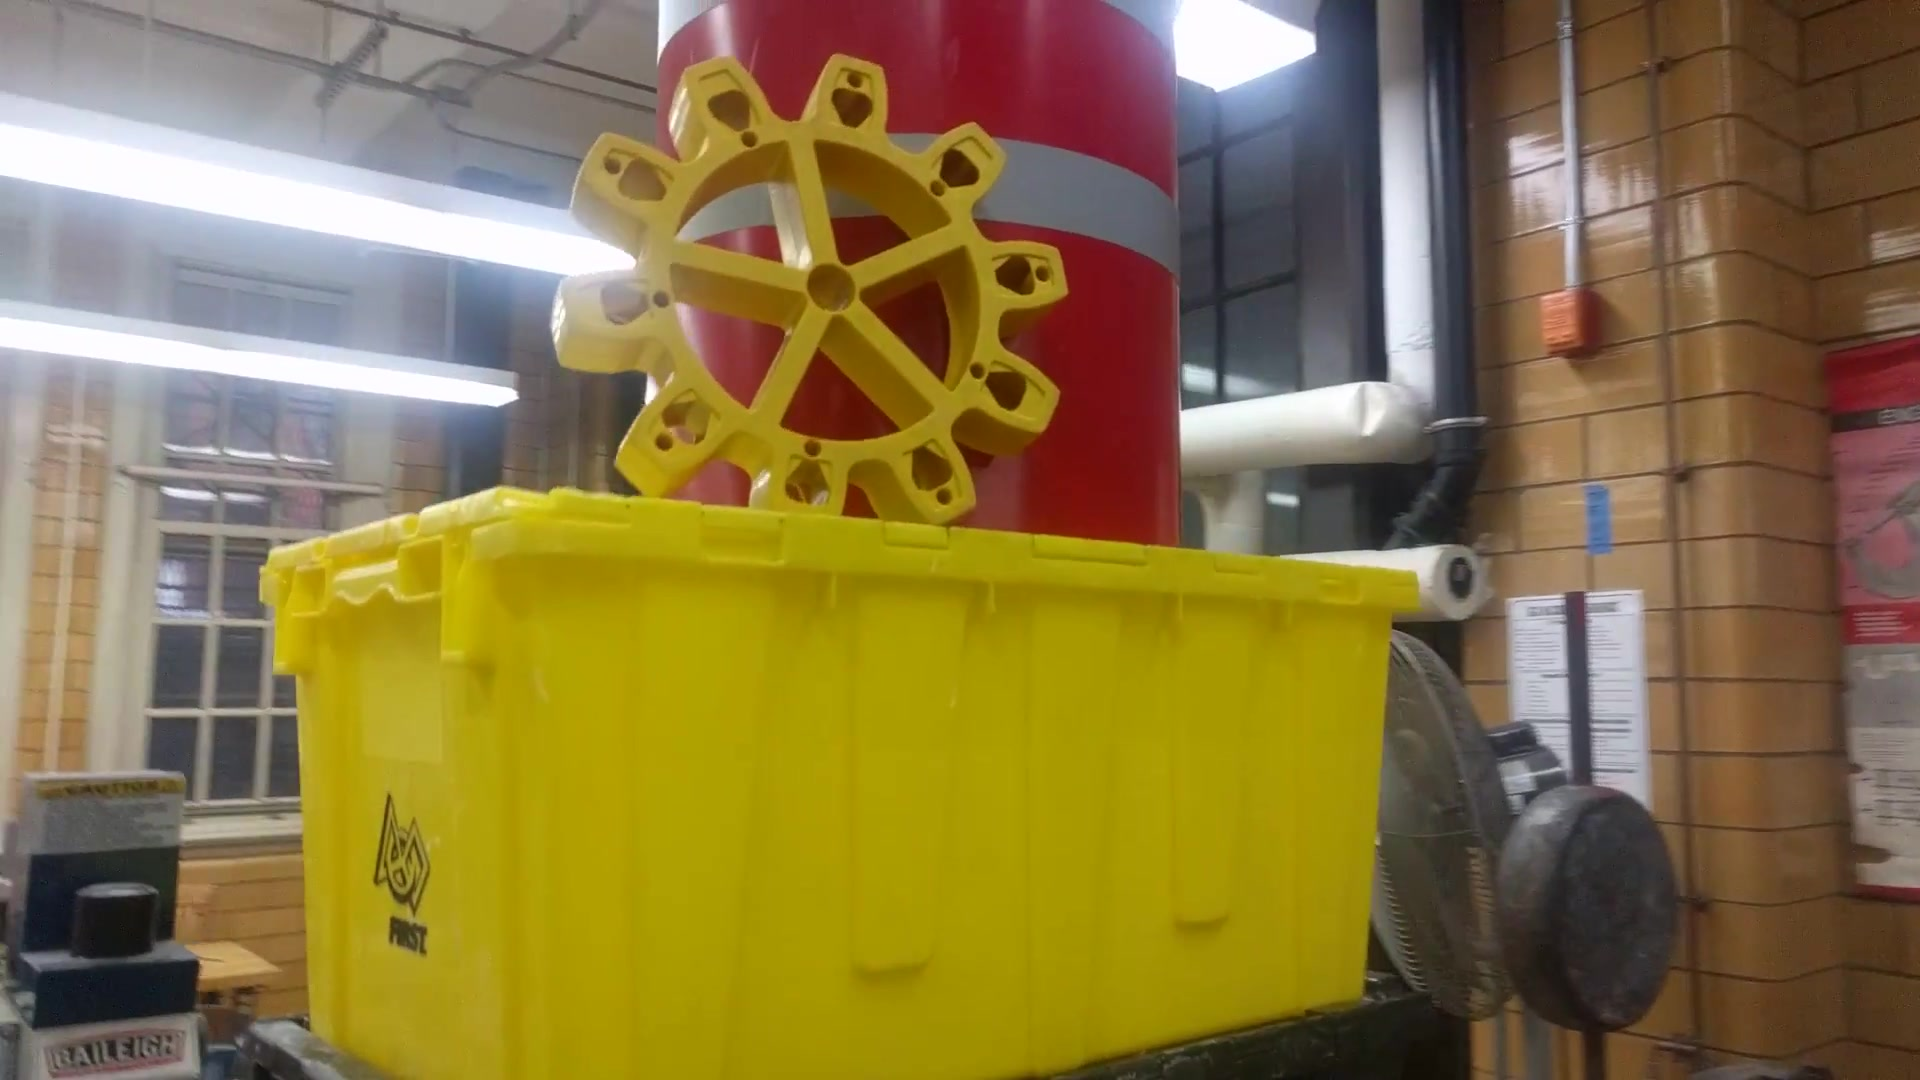gear: (555, 40, 1073, 551)
